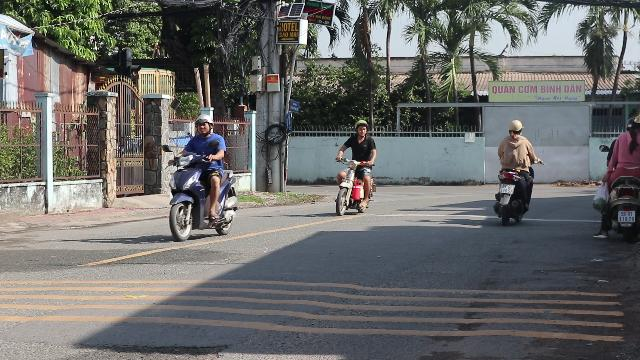helmet: (194, 113, 213, 135), (506, 120, 522, 136), (626, 112, 638, 132)
licenseplate: (619, 212, 635, 222), (500, 184, 514, 192)
motorcyclist: (164, 112, 240, 240), (592, 110, 640, 241), (492, 118, 536, 224)
